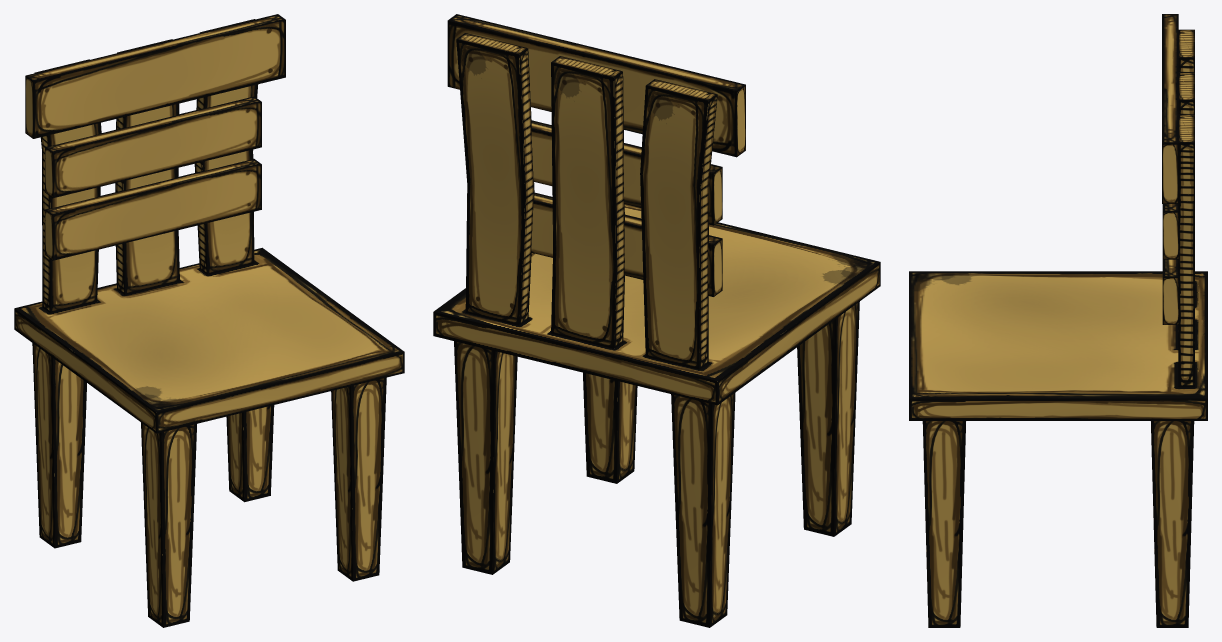
File: chear.fbx
3 renders of one model, left to right at view 1: azimuth 30°, elevation 25°; view 2: azimuth 150°, elevation 25°; view 3: azimuth 270°, elevation 25°, orthographic. The views are drawn at different scales.
Visible parts, largest first — view 1: Cube; view 2: Cube; view 3: Cube.
Boxes of the visible parts, x1=… form: Cube: x1=14, y1=14, x2=404, y2=627; Cube: x1=433, y1=14, x2=880, y2=627; Cube: x1=909, y1=14, x2=1207, y2=627.
Bounding box in the file's own units: 285 × 506 × 278.
